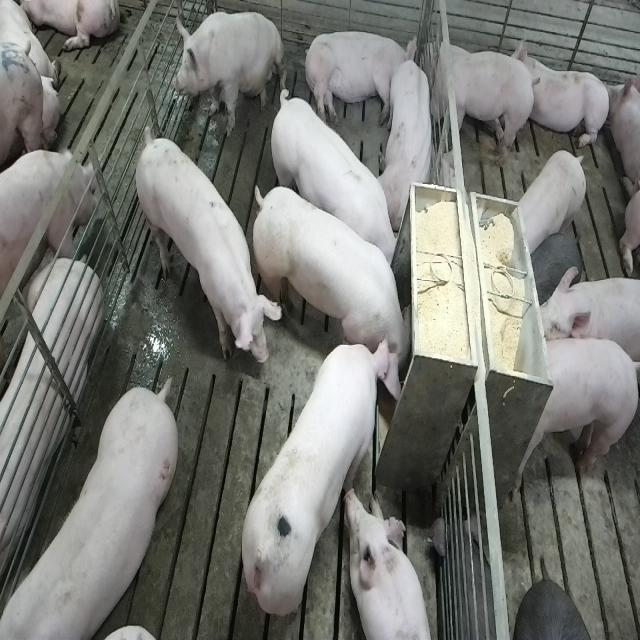Feeding: (239, 336, 397, 620), (254, 177, 420, 393)
Lateral_lying: (0, 222, 102, 592), (302, 28, 419, 128)
Sitting: (170, 8, 285, 139)
Standing: (0, 381, 175, 640), (131, 123, 274, 368), (266, 80, 398, 280), (513, 337, 638, 493), (0, 146, 99, 314), (421, 34, 538, 174), (530, 268, 637, 374), (516, 150, 588, 256)
Sternal_lying: (346, 488, 434, 640), (518, 36, 612, 154), (378, 53, 437, 230)
